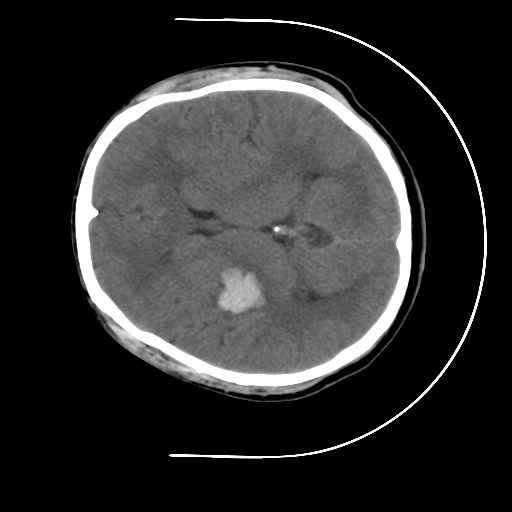a: (201, 249, 280, 329)
